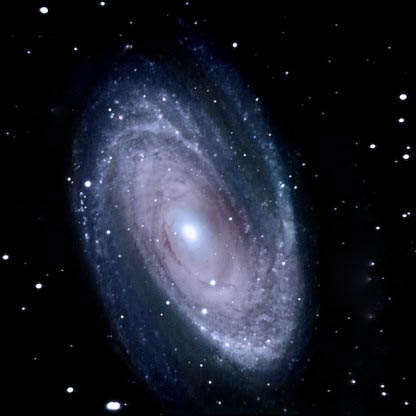Messier 81: (40, 30, 335, 409)
